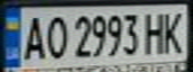2: (69, 11, 93, 60)
3: (121, 10, 142, 56)
9: (90, 11, 109, 58), (106, 11, 124, 57)
A: (18, 11, 48, 61)
H: (142, 8, 169, 55)
K: (157, 7, 190, 54)
O: (42, 11, 69, 61)
